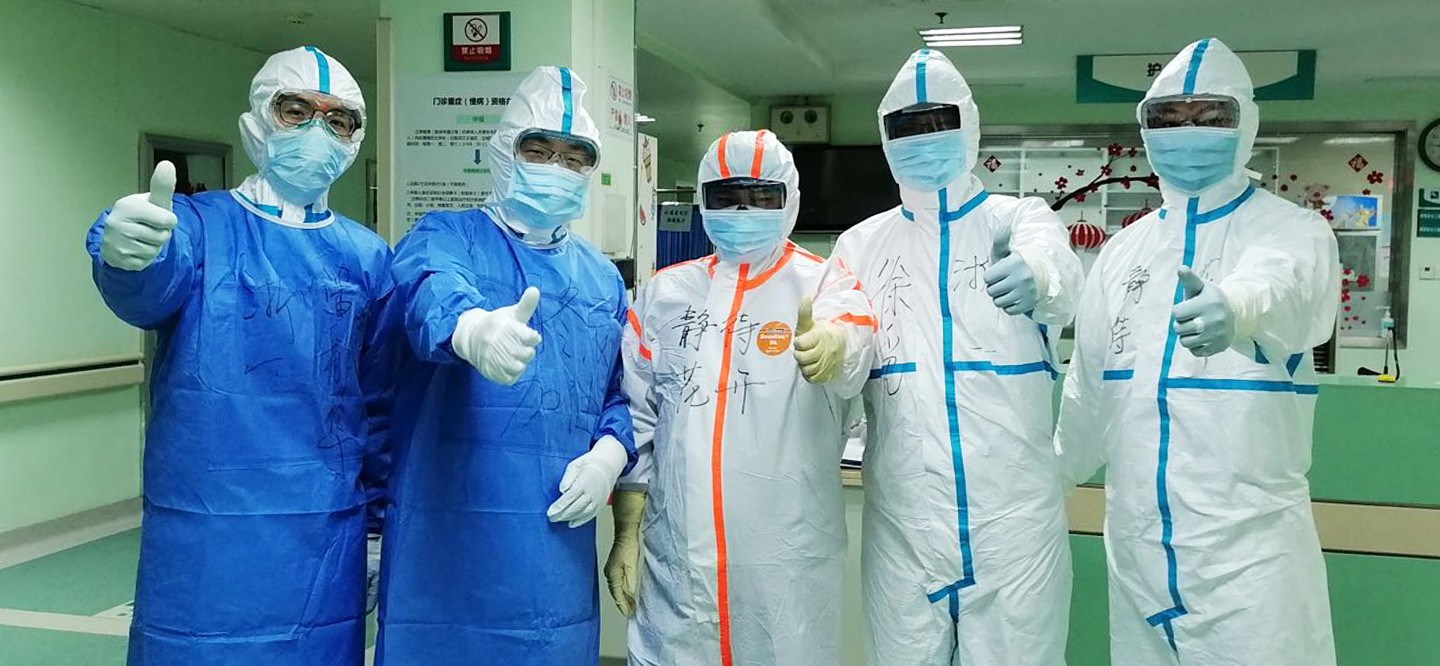Coverall: (100, 198, 375, 666), (1086, 198, 1336, 666), (840, 194, 1075, 666), (391, 217, 607, 666), (643, 253, 844, 666)
Gloves: (443, 280, 558, 394), (84, 157, 180, 273), (547, 415, 632, 537)
Goggles: (269, 88, 377, 145), (1140, 94, 1248, 141), (515, 123, 604, 178), (700, 167, 787, 223), (879, 98, 969, 146)
[: (597, 467, 691, 628), (969, 215, 1062, 335), (1165, 263, 1253, 370), (783, 289, 843, 398)
with_mask: (502, 124, 593, 230), (701, 183, 801, 262), (267, 109, 357, 193), (1149, 112, 1240, 191), (891, 116, 974, 189)
